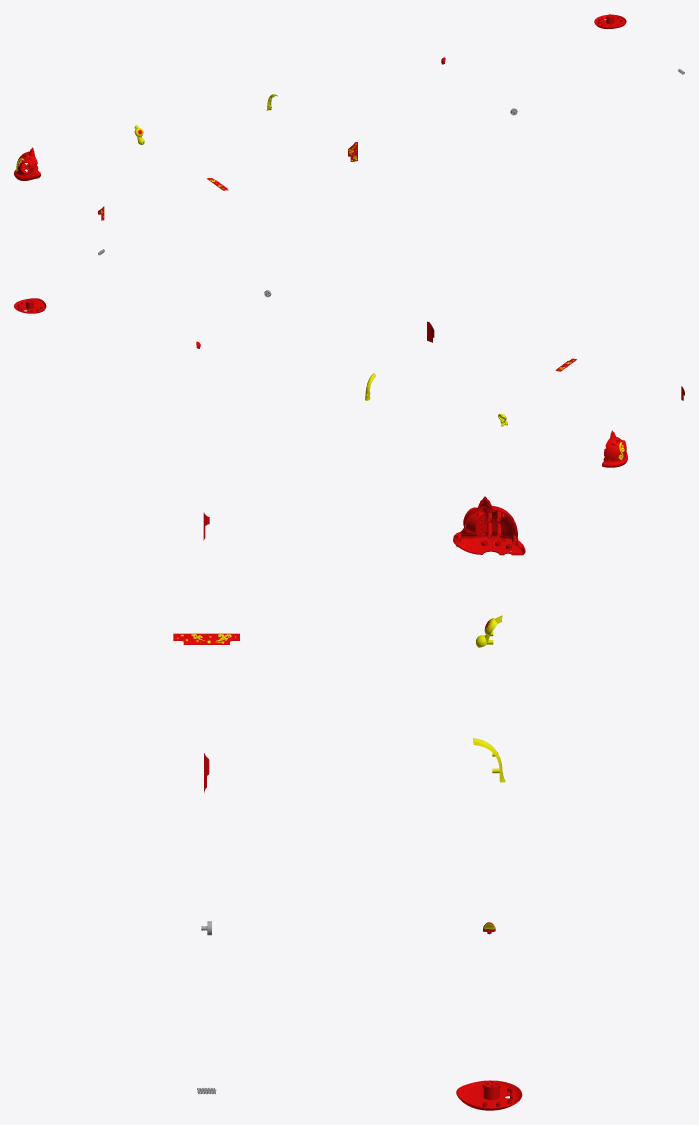
File: lingjianku_LionBot.fbx
3 views of the same model, one above another, from view 1: azimuth 30°, elevation 25°; view 2: azimuth 150°, elevation 25°; view 3: azimuth 270°, elevation 25° (orthographic). The views are drawn at different scales.
Visible parts, largest first — view 1: L01, L06; view 2: L01, L06; view 3: L01, L06.
Part boxes in pixels (left/top/right/bottom): L01: left=14, top=147, right=40, bottom=180; L06: left=594, top=14, right=626, bottom=28; L01: left=602, top=430, right=627, bottom=467; L06: left=14, top=298, right=46, bottom=313; L01: left=453, top=496, right=525, bottom=555; L06: left=456, top=1080, right=522, bottom=1110.
Bounding box in the file's own units: 1836 × 85.04 × 460.
